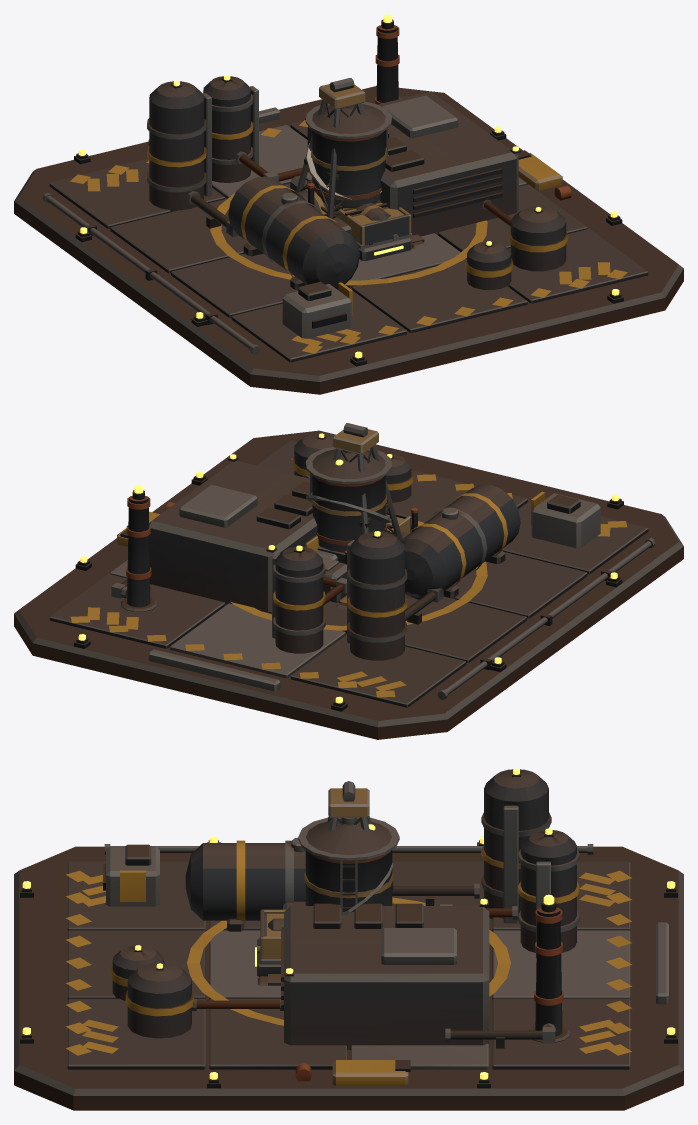
The model's file is khepri-infra.glb.
3 views of the same model, one above another, from view 1: azimuth 30°, elevation 25°; view 2: azimuth 150°, elevation 25°; view 3: azimuth 270°, elevation 25° (orthographic). The views are drawn at different scales.
Visible parts, largest first — view 1: infra_landing_pad, infra_refinery, infra_silo, infra_drill_rig, infra_cargo_0; view 2: infra_landing_pad, infra_refinery, infra_silo, infra_drill_rig, infra_cargo_0; view 3: infra_landing_pad, infra_refinery, infra_silo, infra_drill_rig, infra_cargo_0.
Boxes of the visible parts, x1=… form: infra_landing_pad: x1=14, y1=86, x2=683, y2=394; infra_refinery: x1=147, y1=14, x2=568, y2=338; infra_silo: x1=305, y1=101, x2=392, y2=215; infra_drill_rig: x1=295, y1=78, x2=381, y2=234; infra_cargo_0: x1=290, y1=172, x2=426, y2=262; infra_landing_pad: x1=14, y1=430, x2=683, y2=739; infra_refinery: x1=111, y1=432, x2=600, y2=660; infra_silo: x1=305, y1=447, x2=392, y2=552; infra_drill_rig: x1=320, y1=423, x2=418, y2=546; infra_cargo_0: x1=317, y1=511, x2=411, y2=609; infra_landing_pad: x1=14, y1=836, x2=683, y2=1110; infra_refinery: x1=103, y1=768, x2=579, y2=1049; infra_silo: x1=298, y1=817, x2=399, y2=913; infra_drill_rig: x1=283, y1=781, x2=370, y2=909; infra_cargo_0: x1=255, y1=909, x2=285, y2=985.
Bounding box in the file's own units: 5.4 × 2.01 × 6.2.
